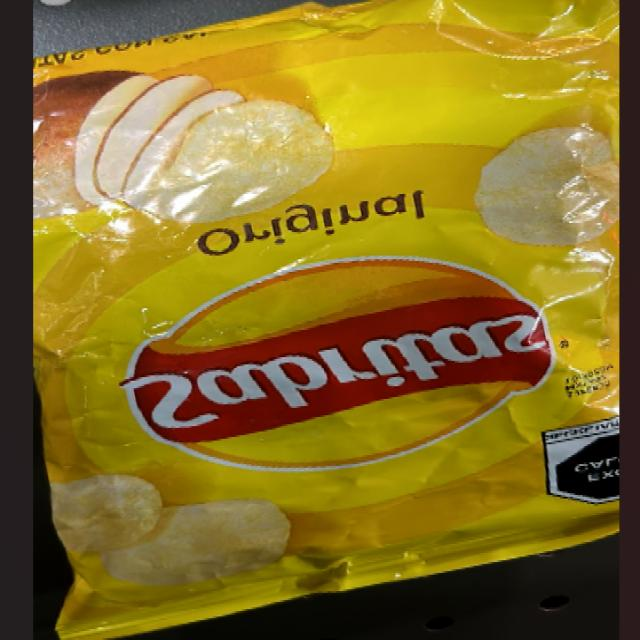sabritasOriginal: (49, 58, 614, 534)
